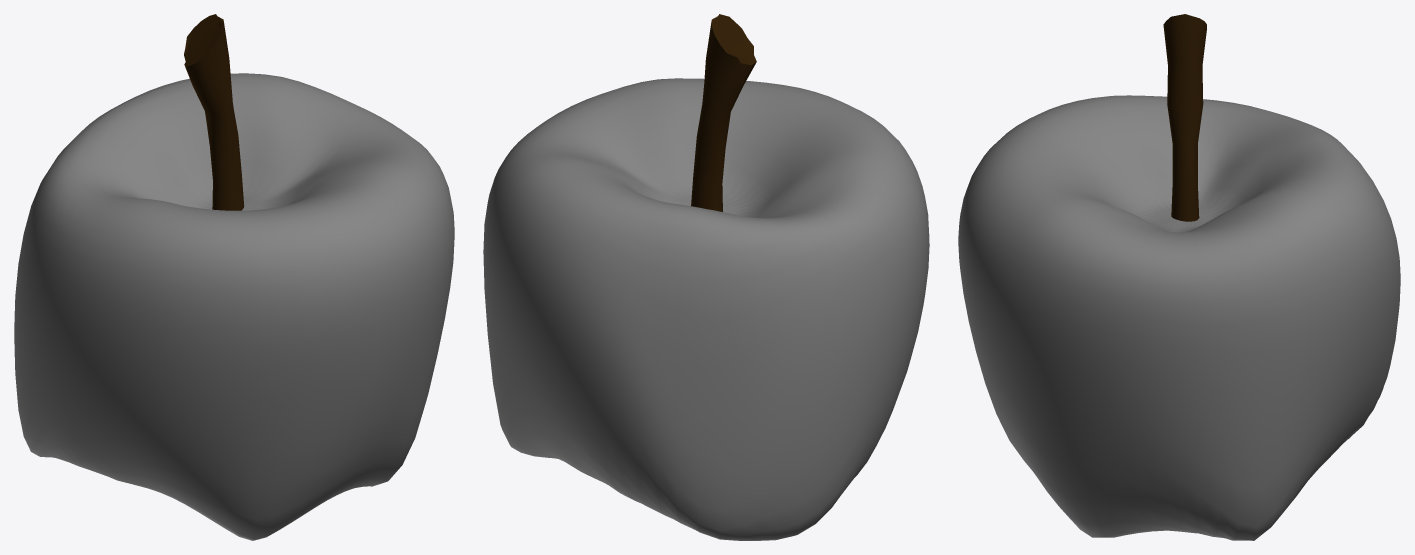
Rendered from apple_fbx.FBX.
The picture shows the model from 3 angles, left to right: view 1: azimuth 30°, elevation 25°; view 2: azimuth 150°, elevation 25°; view 3: azimuth 270°, elevation 25°; orthographic projection.
Visible parts, largest first — view 1: Sphere001, Cylinder001; view 2: Sphere001, Cylinder001; view 3: Sphere001, Cylinder001.
Boxes of the visible parts, left/top/right/bottom form: Sphere001: left=14, top=73, right=454, bottom=540; Cylinder001: left=184, top=14, right=244, bottom=210; Sphere001: left=483, top=78, right=929, bottom=540; Cylinder001: left=691, top=14, right=756, bottom=211; Sphere001: left=958, top=95, right=1400, bottom=540; Cylinder001: left=1163, top=14, right=1206, bottom=221.
Bounding box in the file's own units: 3.84 × 4.49 × 3.84.
